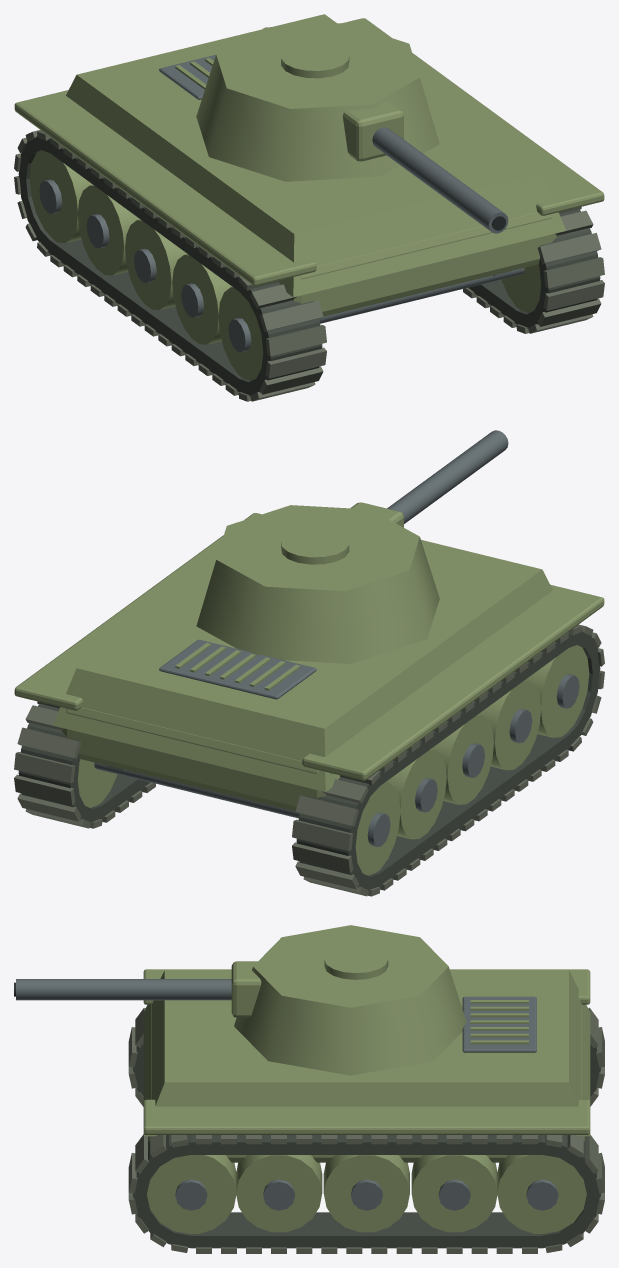
Rendered from tank.glb.
3 views of the same model, one above another, from view 1: azimuth 30°, elevation 25°; view 2: azimuth 150°, elevation 25°; view 3: azimuth 270°, elevation 25° (orthographic). The views are drawn at different scales.
Visible parts, largest first — view 1: Tank sloped upper hull, Tank low polygon turret, Tank track guard, Tank left continuous closed track band, Tank lower armored hull, Tank track guard.001, Tank attached cannon barrel, Tank road wheel.008, Tank road wheel.006, Tank road wheel.004, Tank road wheel.002, Tank right continuous closed track band (+21 smaller); view 2: Tank sloped upper hull, Tank low polygon turret, Tank track guard, Tank left continuous closed track band, Tank lower armored hull, Tank track guard.001, Tank rear engine vent plate, Tank road wheel, Tank attached cannon barrel, Tank road wheel.004, Tank road wheel.002, Tank road wheel.006 (+19 smaller); view 3: Tank sloped upper hull, Tank low polygon turret, Tank right continuous closed track band, Tank track guard.001, Tank road wheel.001, Tank road wheel.009, Tank road wheel.003, Tank road wheel.005, Tank road wheel.007, Tank attached cannon barrel, Tank rear engine vent plate, Tank closed roof hatch (+10 smaller).
Part boxes in pixels (x1=…): Tank sloped upper hull: x1=66, y1=14, x2=566, y2=297; Tank low polygon turret: x1=196, y1=23, x2=439, y2=181; Tank track guard: x1=14, y1=90, x2=316, y2=285; Tank left continuous closed track band: x1=18, y1=136, x2=322, y2=395; Tank lower armored hull: x1=286, y1=212, x2=556, y2=316; Tank track guard.001: x1=344, y1=18, x2=604, y2=215; Tank attached cannon barrel: x1=372, y1=127, x2=508, y2=233; Tank road wheel.008: x1=29, y1=150, x2=92, y2=242; Tank road wheel.006: x1=77, y1=185, x2=139, y2=275; Tank road wheel.004: x1=125, y1=219, x2=187, y2=309; Tank road wheel.002: x1=172, y1=254, x2=232, y2=344; Tank right continuous closed track band: x1=468, y1=209, x2=600, y2=328; Tank sloped upper hull: x1=53, y1=540, x2=552, y2=791; Tank low polygon turret: x1=196, y1=505, x2=439, y2=663; Tank track guard: x1=302, y1=584, x2=604, y2=780; Tank left continuous closed track band: x1=296, y1=630, x2=600, y2=890; Tank lower armored hull: x1=62, y1=707, x2=332, y2=811; Tank track guard.001: x1=14, y1=513, x2=261, y2=710; Tank rear engine vent plate: x1=159, y1=639, x2=316, y2=699; Tank road wheel: x1=526, y1=645, x2=589, y2=737; Tank attached cannon barrel: x1=387, y1=430, x2=508, y2=523; Tank road wheel.004: x1=431, y1=714, x2=493, y2=804; Tank road wheel.002: x1=479, y1=679, x2=540, y2=770; Tank road wheel.006: x1=386, y1=748, x2=446, y2=839; Tank sloped upper hull: x1=143, y1=970, x2=590, y2=1136; Tank low polygon turret: x1=234, y1=925, x2=466, y2=1075; Tank right continuous closed track band: x1=133, y1=1135, x2=600, y2=1248; Tank track guard.001: x1=143, y1=1099, x2=590, y2=1134; Tank road wheel.001: x1=147, y1=1155, x2=236, y2=1233; Tank road wheel.009: x1=497, y1=1155, x2=586, y2=1233; Tank road wheel.003: x1=236, y1=1155, x2=322, y2=1232; Tank road wheel.005: x1=323, y1=1155, x2=409, y2=1232; Tank road wheel.007: x1=411, y1=1155, x2=497, y2=1232; Tank attached cannon barrel: x1=16, y1=979, x2=231, y2=1000; Tank rear engine vent plate: x1=462, y1=996, x2=536, y2=1052; Tank closed roof hatch: x1=324, y1=946, x2=388, y2=979.
Size of the model in its own units: 3.54 by 2.27 by 5.56.
